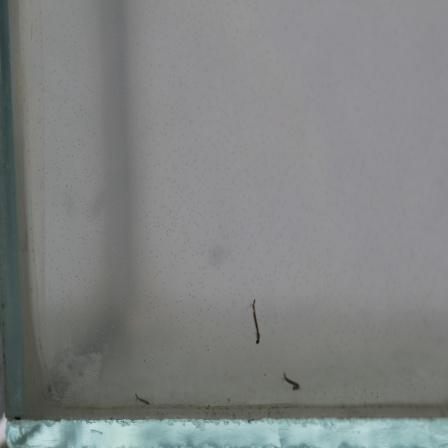Jentik-Nyamuk: (249, 296, 264, 349), (279, 369, 305, 396)
